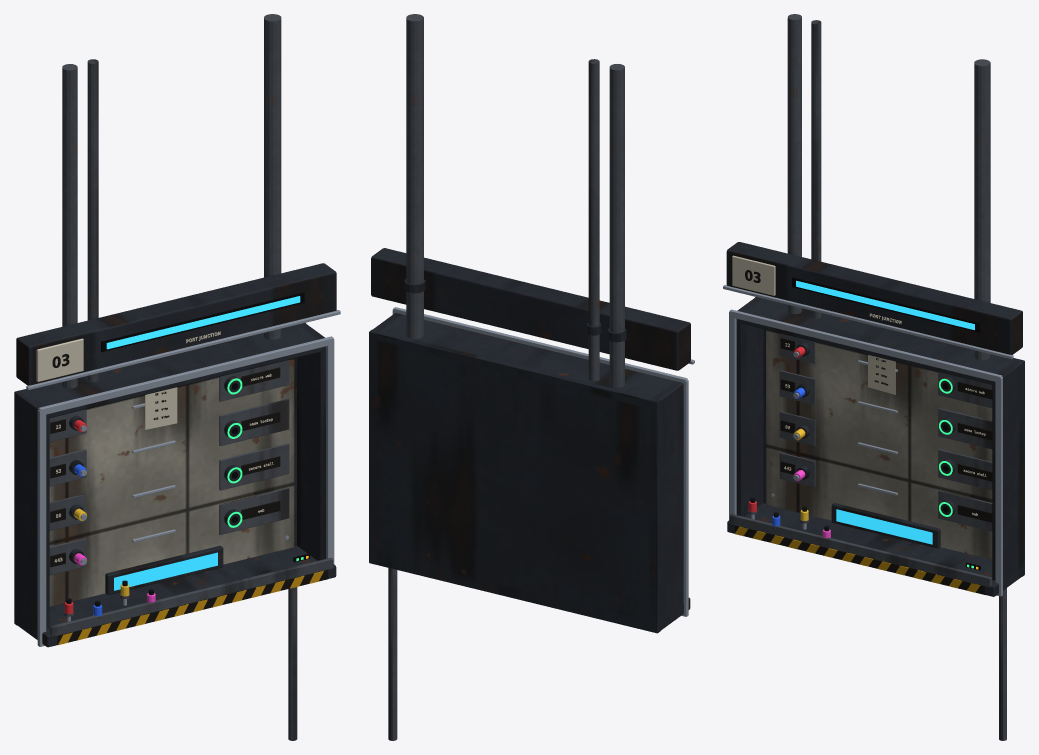
The model's file is ch1-station-3.glb.
The picture shows the model from 3 angles, left to right: view 1: azimuth 30°, elevation 25°; view 2: azimuth 150°, elevation 25°; view 3: azimuth 330°, elevation 25°; orthographic projection. The views are drawn at different scales.
Visible parts, largest first — view 1: board, header_plate, top, side_l, side_r, conduit.002, bottom, conduit, tray_lip, conduit.001, frame_t, frame_l (+19 smaller); view 2: back, header_plate, side_l, top, conduit.002, conduit, conduit.001, bottom, ground, frame_t, frame_l; view 3: board, header_plate, top, side_r, side_l, bottom, conduit.002, conduit, tray_lip, conduit.001, frame_t, frame_r (+19 smaller).
Boxes of the visible parts, x1=… form: board: x1=49, y1=358, x2=294, y2=606; header_plate: x1=16, y1=263, x2=336, y2=385; top: x1=17, y1=324, x2=325, y2=418; side_l: x1=14, y1=391, x2=49, y2=639; side_r: x1=297, y1=323, x2=325, y2=560; conduit.002: x1=264, y1=14, x2=281, y2=339; bottom: x1=23, y1=546, x2=336, y2=647; conduit: x1=62, y1=64, x2=77, y2=388; tray_lip: x1=50, y1=557, x2=333, y2=636; conduit.001: x1=87, y1=59, x2=98, y2=381; frame_t: x1=38, y1=336, x2=333, y2=415; frame_l: x1=37, y1=409, x2=46, y2=646; back: x1=369, y1=329, x2=660, y2=633; header_plate: x1=371, y1=248, x2=690, y2=370; side_l: x1=649, y1=381, x2=683, y2=630; top: x1=370, y1=313, x2=683, y2=408; conduit.002: x1=406, y1=14, x2=423, y2=338; conduit: x1=609, y1=64, x2=624, y2=387; conduit.001: x1=588, y1=59, x2=599, y2=381; bottom: x1=370, y1=555, x2=690, y2=631; ground: x1=388, y1=568, x2=397, y2=740; frame_t: x1=393, y1=307, x2=687, y2=385; frame_l: x1=681, y1=380, x2=688, y2=616; board: x1=766, y1=330, x2=992, y2=559; header_plate: x1=726, y1=242, x2=1022, y2=354; top: x1=736, y1=299, x2=1023, y2=384; side_r: x1=992, y1=360, x2=1024, y2=581; side_l: x1=736, y1=297, x2=763, y2=516; bottom: x1=727, y1=503, x2=1024, y2=596; conduit.002: x1=974, y1=59, x2=990, y2=360; conduit: x1=787, y1=14, x2=801, y2=314; tray_lip: x1=730, y1=514, x2=991, y2=587; conduit.001: x1=811, y1=20, x2=821, y2=318; frame_t: x1=729, y1=309, x2=1002, y2=381; frame_r: x1=995, y1=377, x2=1002, y2=596.
Size of the model in its own units: 1.62 by 3.6 by 0.31.
Materials: 21 (3 with a texture image).
